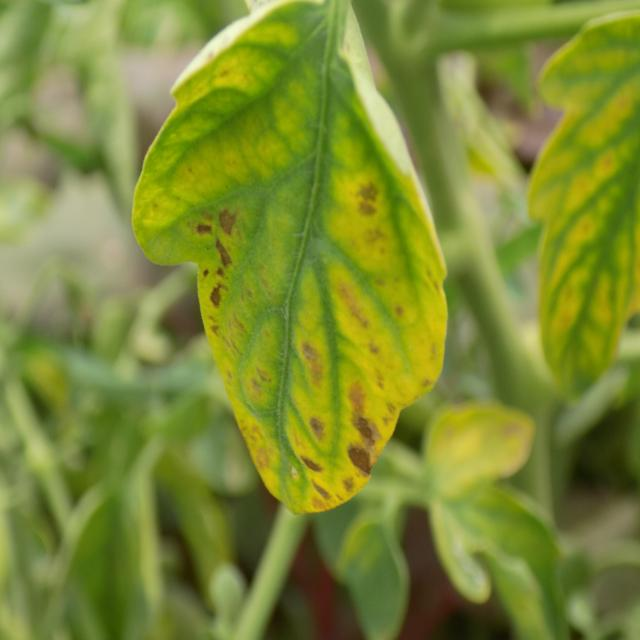tomato_early blight: (131, 0, 449, 513), (529, 11, 640, 402)
